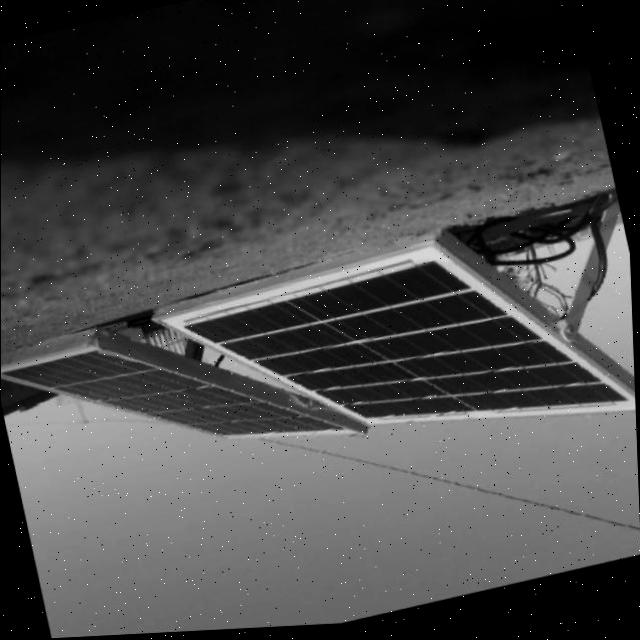Normal Solar Panel: (152, 212, 638, 522), (0, 293, 360, 511)
